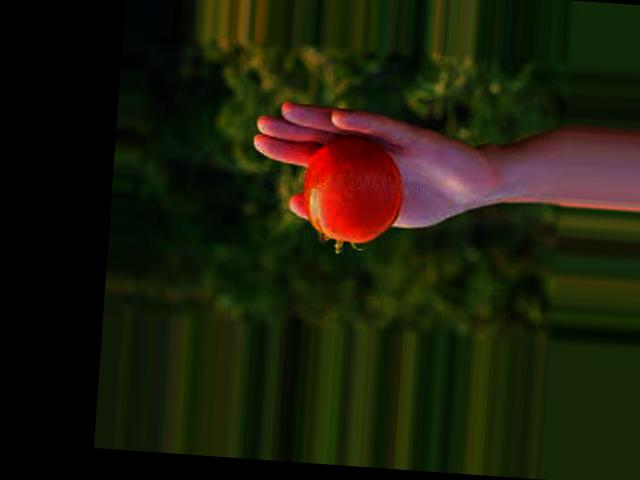tomato: (301, 130, 405, 244)
